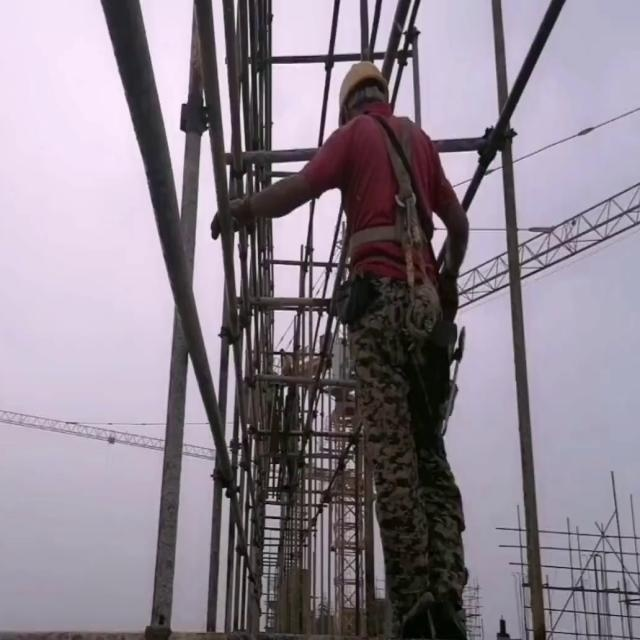Arnes_seguridad: (336, 107, 437, 289)
